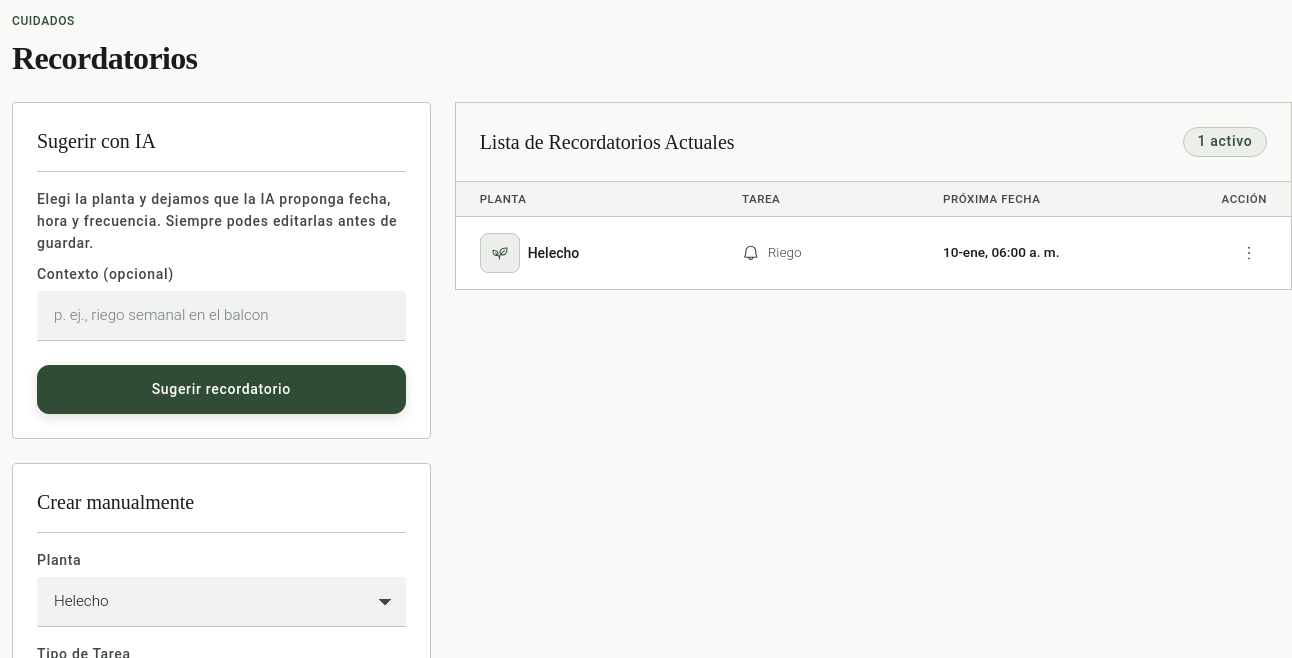
RemindersManager › renders suggestion limitations when the backend reports them
The image size is (1292, 658).
Click the button "Sugerir recordatorio": (221, 389) [37, 365, 406, 414]
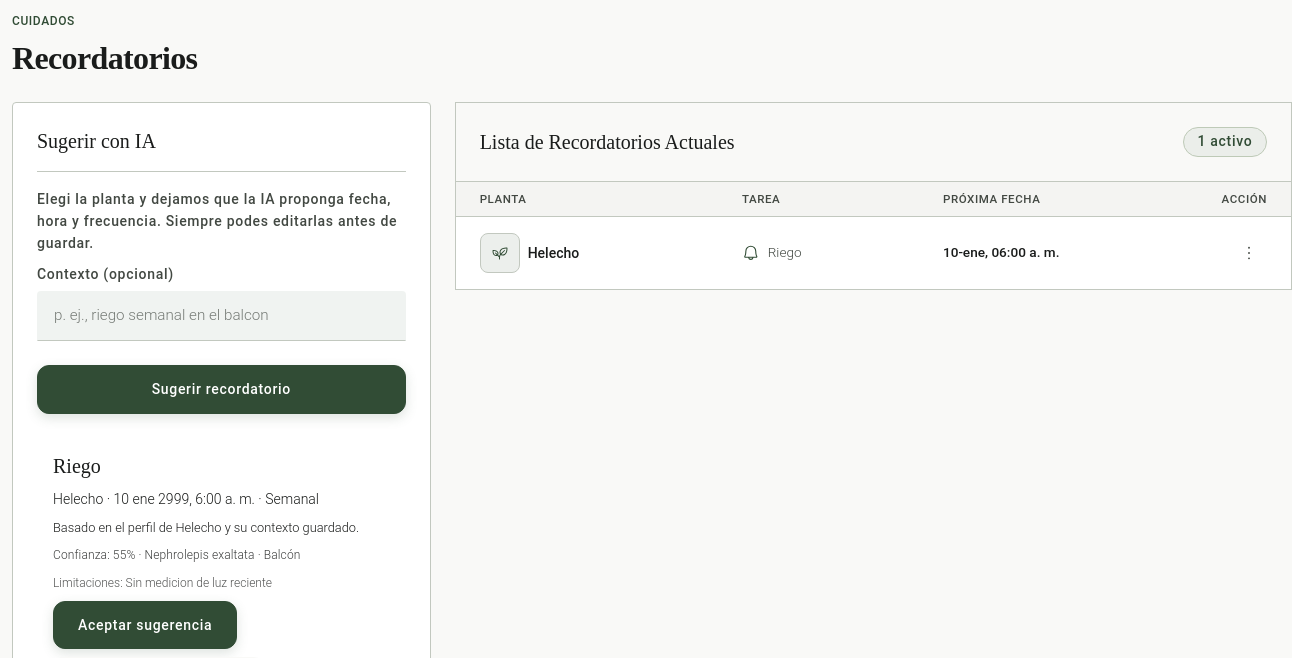
Result: the text "Confianza: 55% · Nephrolepis exaltata · Balcón" is shown at [53, 548, 300, 562]
Result: the text "Limitaciones: Sin medicion de luz reciente" is shown at [53, 576, 272, 590]
